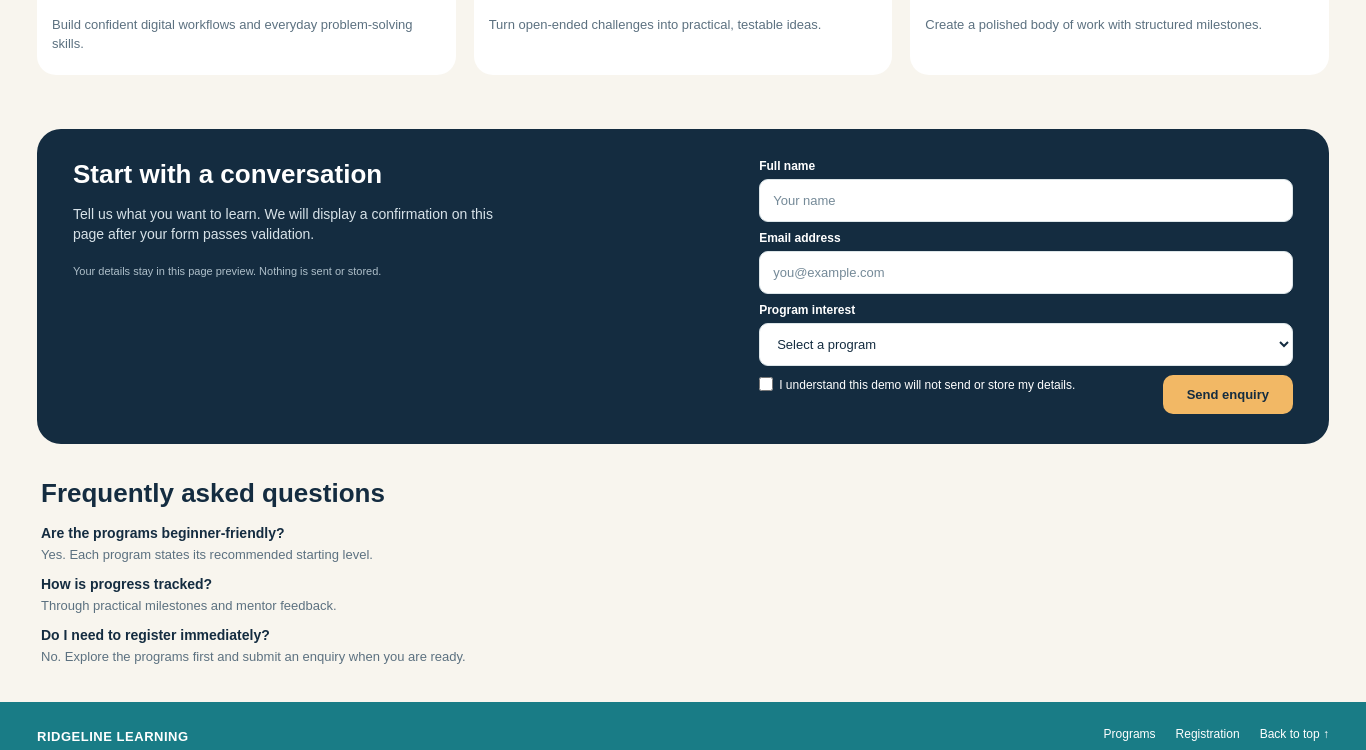
Test: Ridgeline Learning landing page › focuses the first invalid field and exposes field-level errors
(page scrolled)
Click the button "Send enquiry" at (1228, 394), box [1163, 375, 1293, 414]
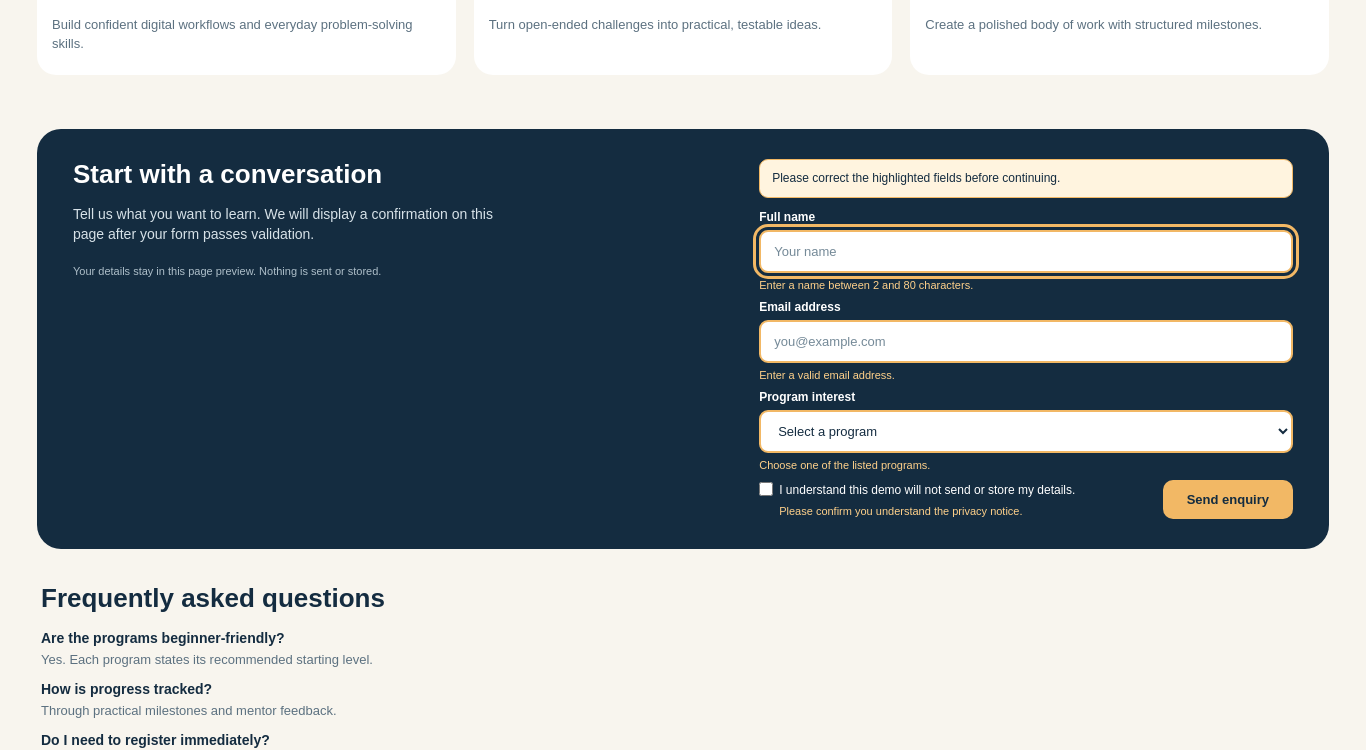
Check: the text "Enter a name between 2 and 80 characters." is shown, box [759, 279, 973, 291]
